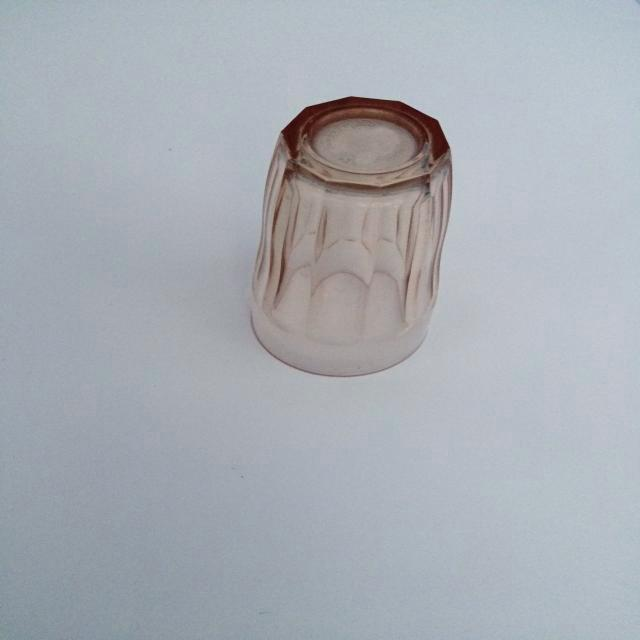glass: (233, 91, 460, 392)
